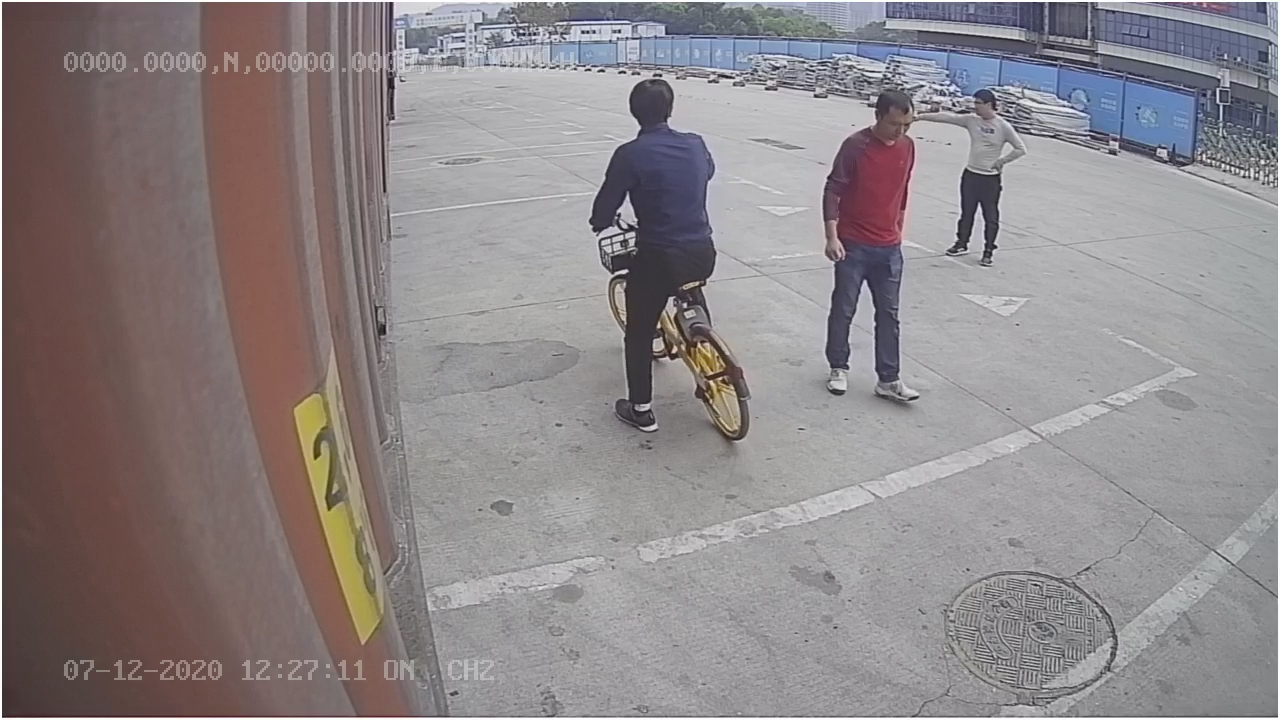person: (809, 86, 929, 408)
